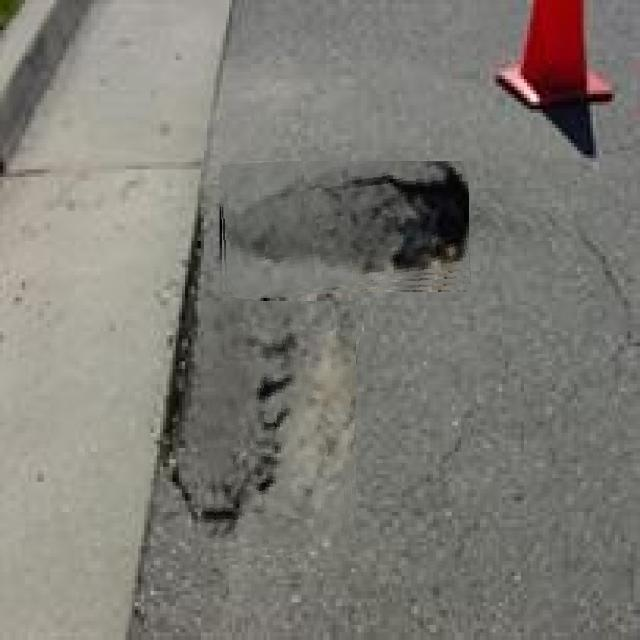Pothole: (205, 301, 356, 559), (220, 161, 469, 296)
